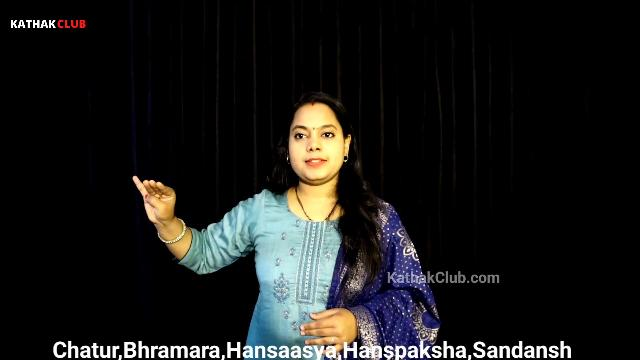chatur: (121, 166, 205, 241)
